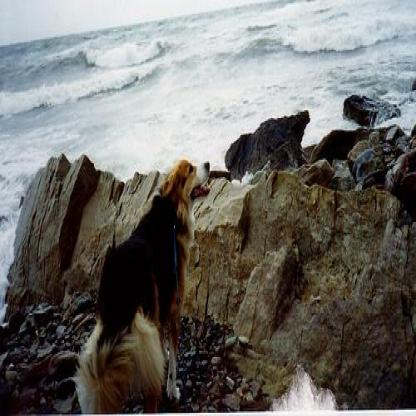collie: (72, 155, 210, 413)
